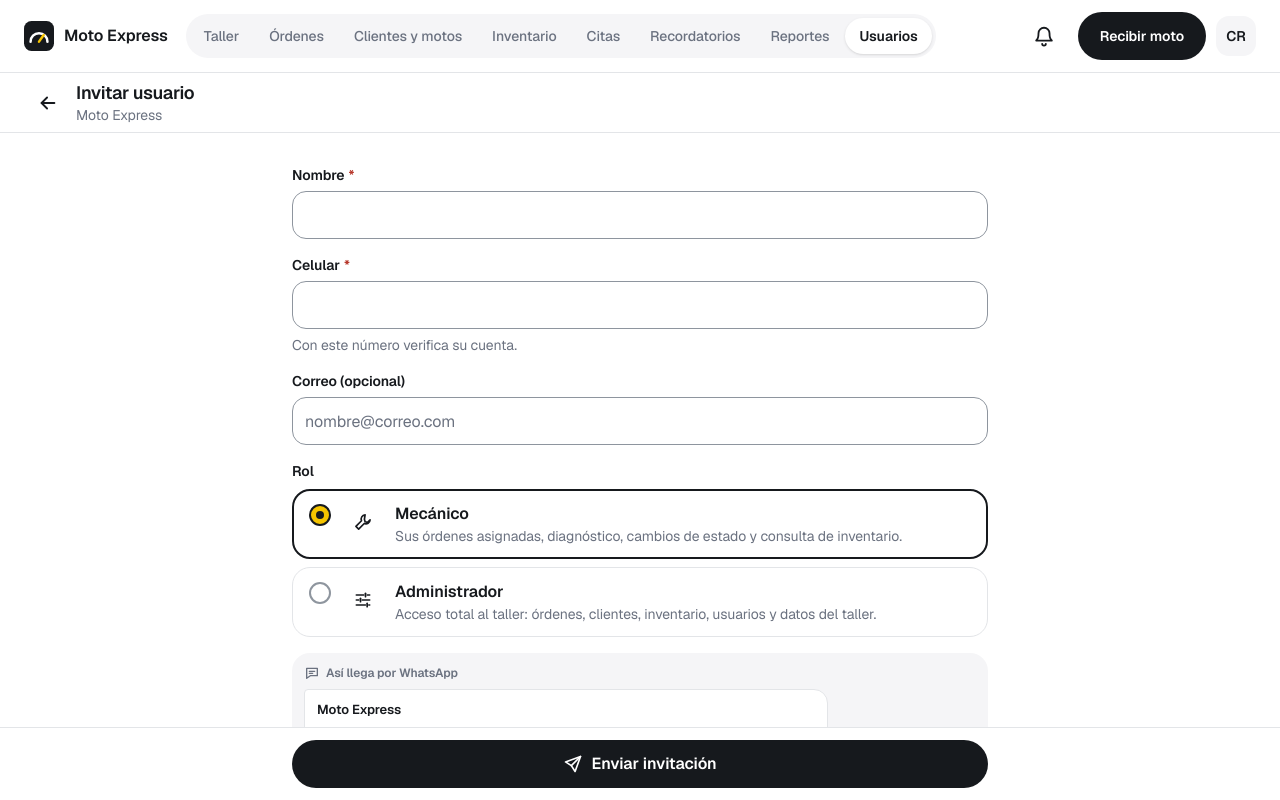
Test: HU-67 · Invitar usuarios › no envía sin nombre ni un celular de 10 dígitos
The image size is (1280, 800).
Type "123" into the field labelled "Celular*". click: [640, 305]
box: [292,281,988,329]
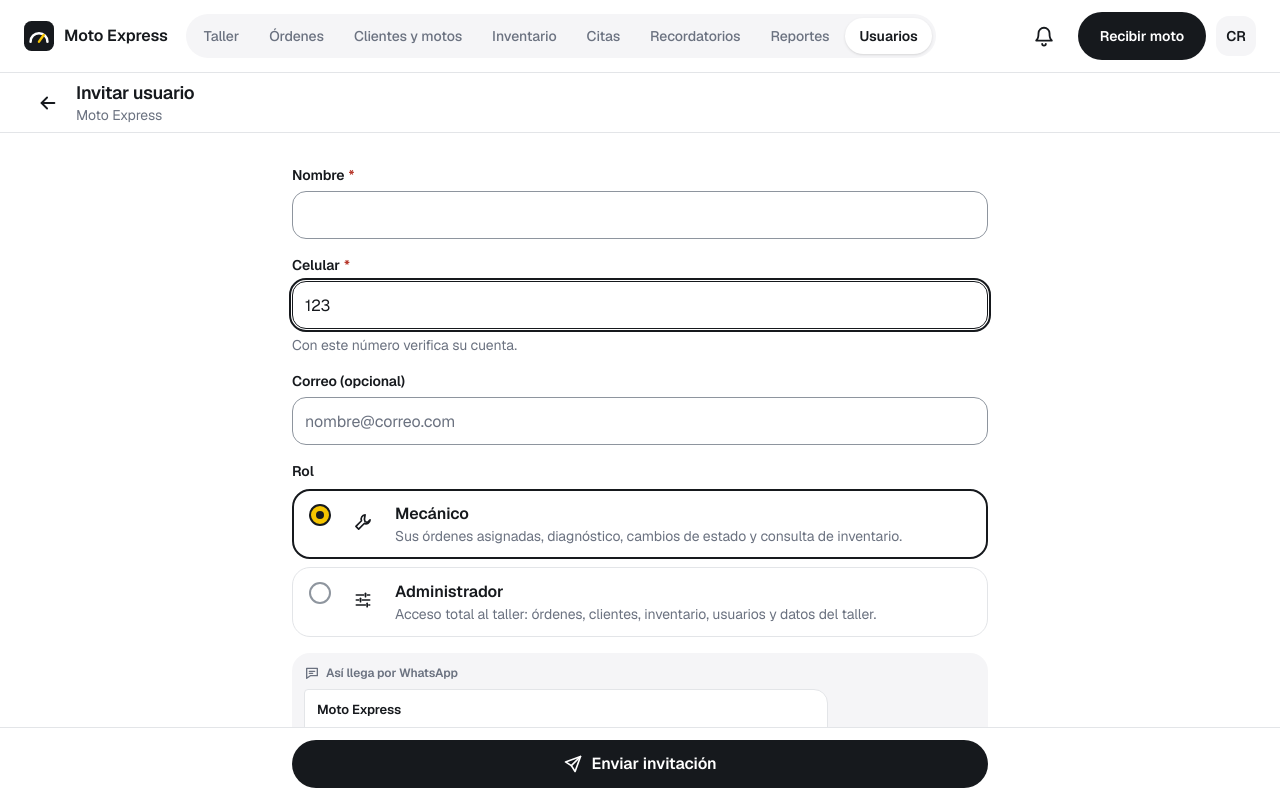
Click the button "Enviar invitación". click: [640, 764]
box: [292,740,988,788]
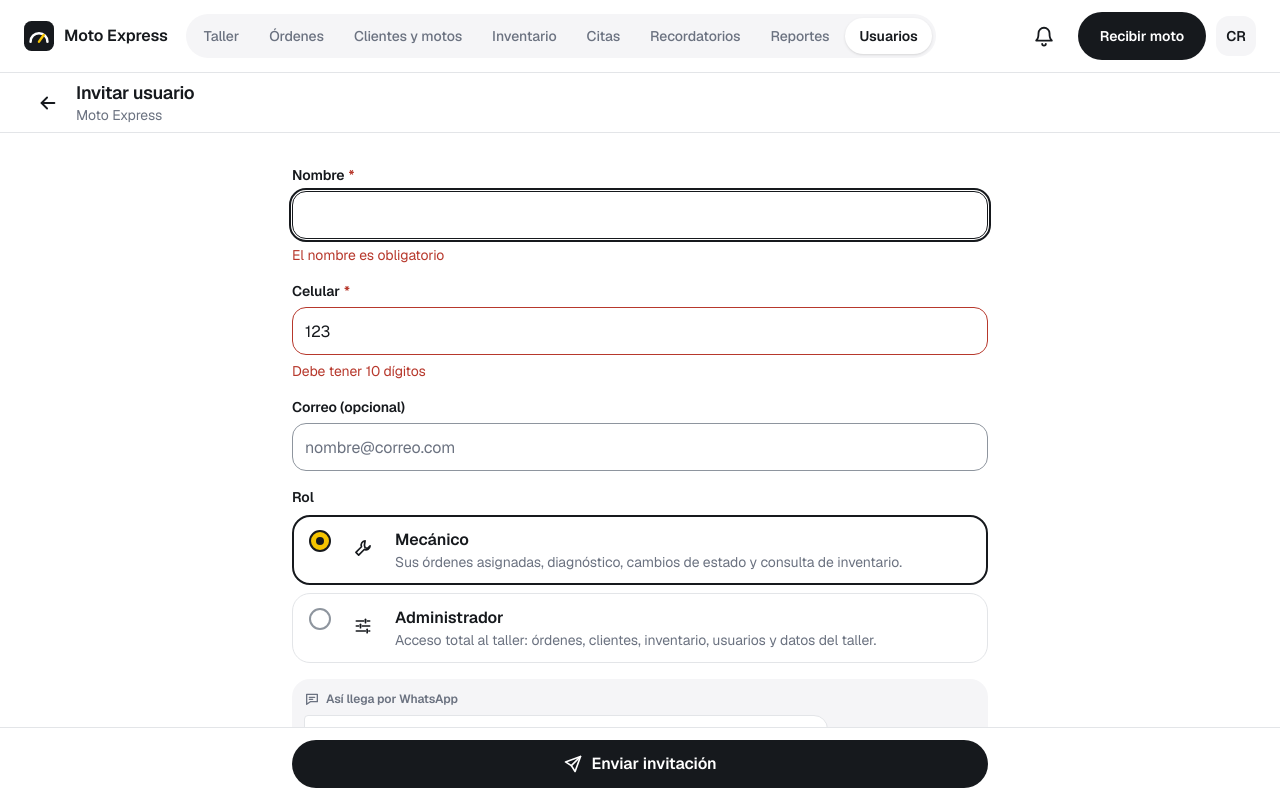
Expected: the text "Debe tener 10 dígitos" is shown, [292,362,426,380]
